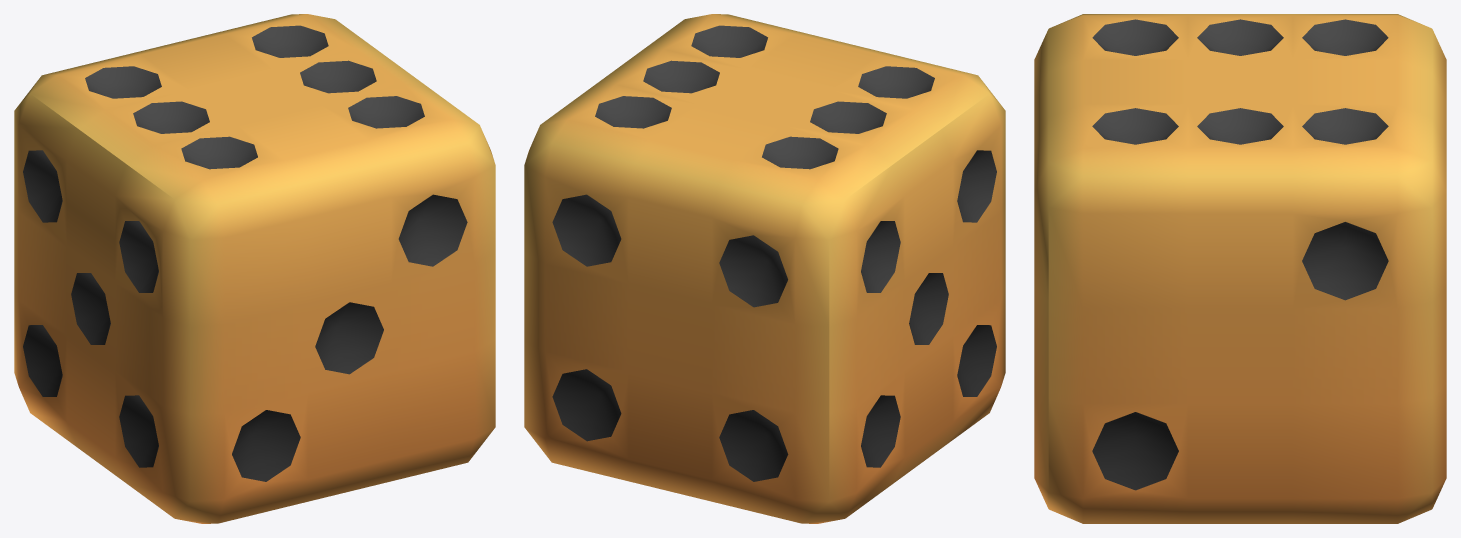
Rendered from D6_A_yellow.obj.
The picture shows the model from 3 angles, left to right: view 1: azimuth 30°, elevation 25°; view 2: azimuth 150°, elevation 25°; view 3: azimuth 270°, elevation 25°; orthographic projection. The views are drawn at different scales.
Parts seen in each view (by area): view 1: D6_A_yellow; view 2: D6_A_yellow; view 3: D6_A_yellow.
Part boxes in pixels (x1=…): D6_A_yellow: x1=14, y1=14, x2=495, y2=523; D6_A_yellow: x1=524, y1=14, x2=1005, y2=523; D6_A_yellow: x1=1034, y1=14, x2=1446, y2=523.
Bounding box in the file's own units: 0.75 × 0.75 × 0.75.
1 material, 1 textured.
